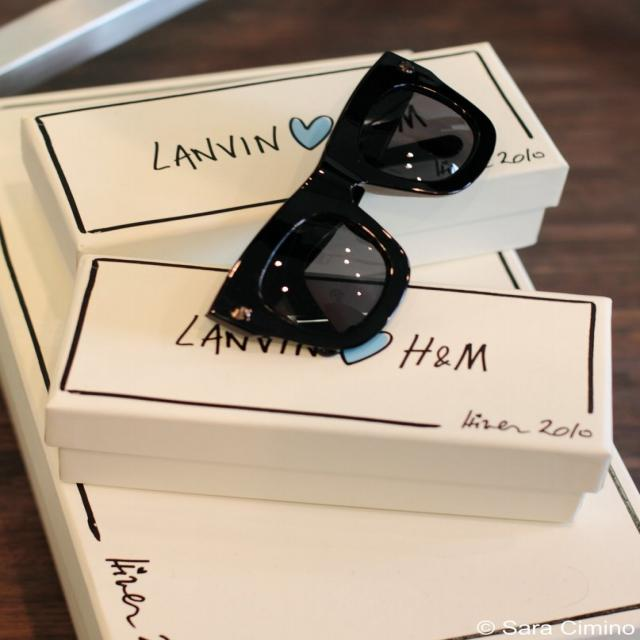Box: (0, 90, 639, 639), (14, 38, 572, 280)
